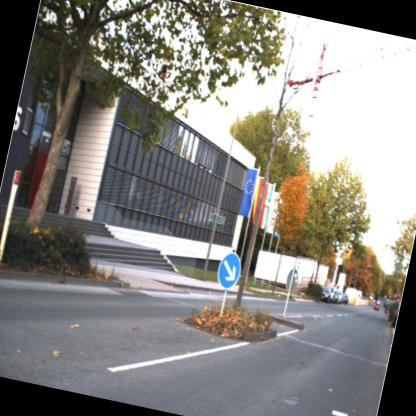mandatory: (209, 247, 246, 294)
